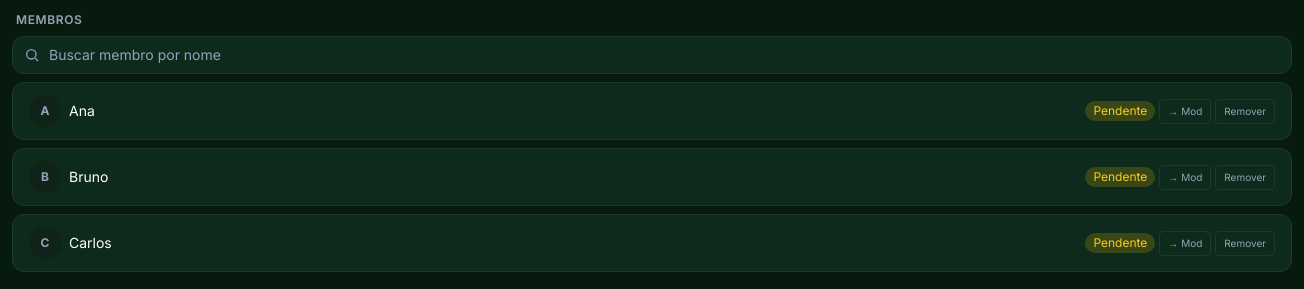
Scenario: filtra membros pela busca por nome
Step 1. Type "bru" into the search field with placeholder "Buscar membro por nome" → (652, 55), box [12, 36, 1292, 74]
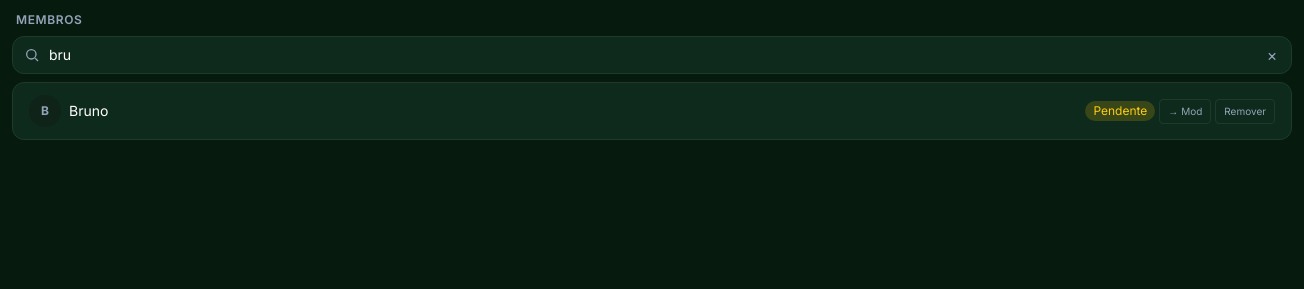
Expected: the text "Bruno" is shown, [69, 101, 108, 121]
Result: the text "Ana" is gone
Result: the text "Carlos" is gone
